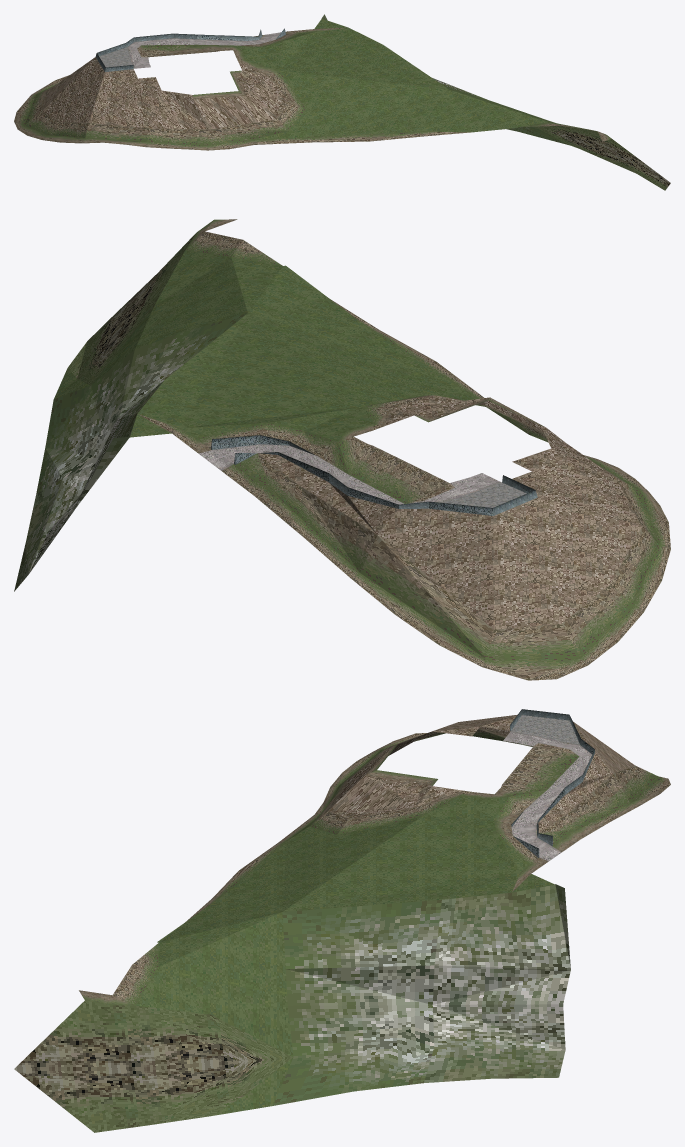
Rendered from lodcehollyhil03.obj.
3 renders of one model, top to bottom at view 1: azimuth 30°, elevation 25°; view 2: azimuth 150°, elevation 25°; view 3: azimuth 270°, elevation 25°, orthographic. The views are drawn at different scales.
Visible parts, largest first — view 1: LODCEhollyhil03; view 2: LODCEhollyhil03; view 3: LODCEhollyhil03.
Part boxes in pixels (x1,y1,x2,y2): LODCEhollyhil03: (14, 14, 670, 190); LODCEhollyhil03: (14, 219, 670, 680); LODCEhollyhil03: (14, 709, 670, 1132).
Bounding box in the file's own units: 230 × 57.51 × 202.
9 materials, 9 textured.
